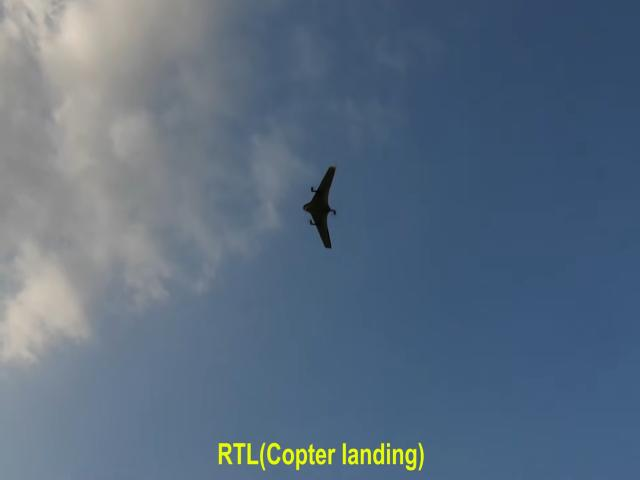plane: (303, 166, 340, 248)
